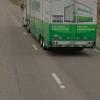Bus: (18, 0, 98, 59)
